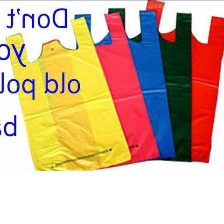plastic_bag: (3, 14, 134, 171), (38, 9, 162, 169), (66, 4, 180, 166), (97, 4, 197, 164), (134, 0, 224, 165)
